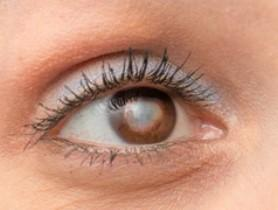eye: (109, 85, 176, 145)
